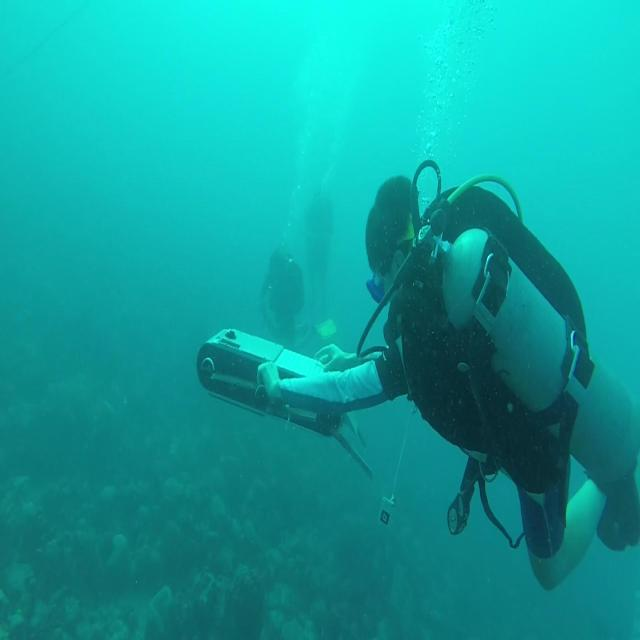human: (256, 163, 639, 590)
